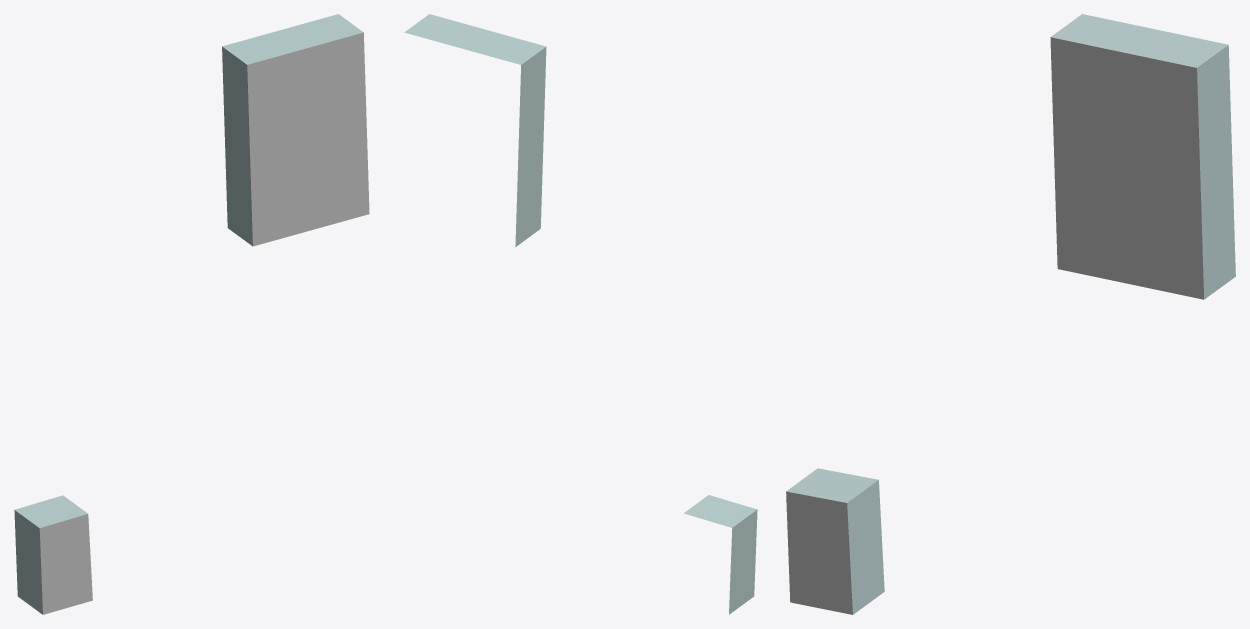
3 renders of one model, left to right at view 1: azimuth 30°, elevation 25°; view 2: azimuth 150°, elevation 25°; view 3: azimuth 330°, elevation 25°, orthographic. The views are drawn at different scales.
Visible parts, largest first — view 1: 0_3_1_2_2_3_3_3_3; view 2: 0_3_1_2_2_3_3_3_3; view 3: 0_3_1_2_2_3_3_3_3.
Part boxes in pixels (left/top/right/bottom): 0_3_1_2_2_3_3_3_3: left=14, top=14, right=369, bottom=614; 0_3_1_2_2_3_3_3_3: left=404, top=14, right=757, bottom=614; 0_3_1_2_2_3_3_3_3: left=786, top=14, right=1235, bottom=614.
Bounding box in the file's own units: 22.71 × 32.95 × 3.17.
